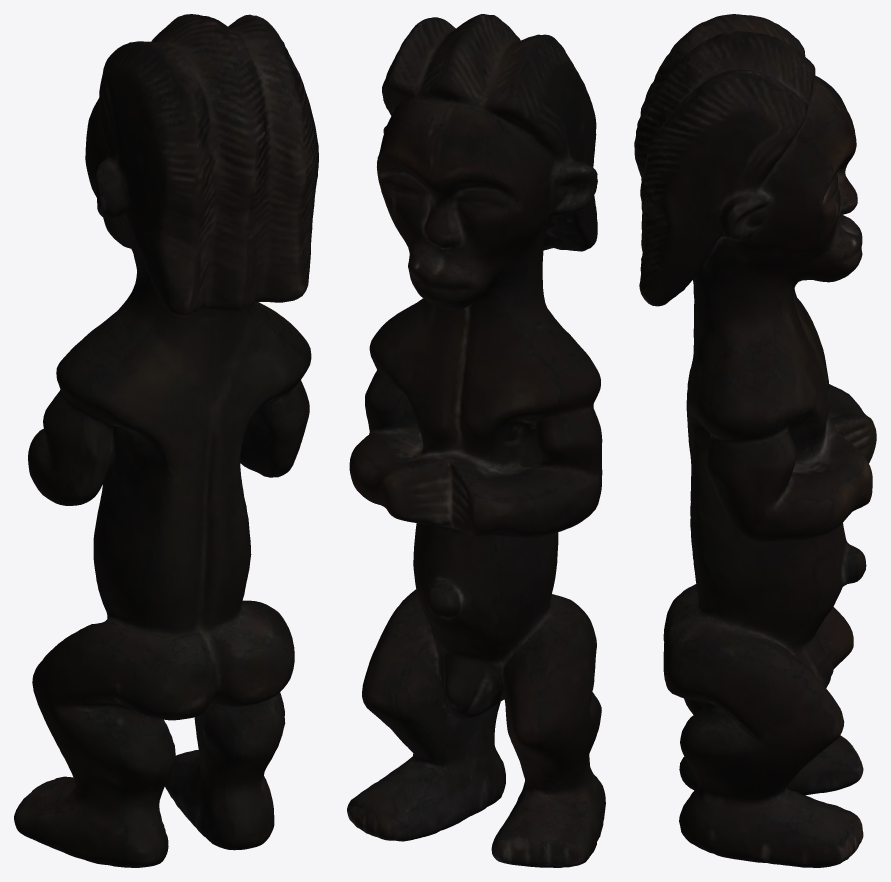
The model's file is preview.glb.
The picture shows the model from 3 angles, left to right: view 1: azimuth 30°, elevation 25°; view 2: azimuth 150°, elevation 25°; view 3: azimuth 270°, elevation 25°; orthographic projection. The views are drawn at different scales.
Visible parts, largest first — view 1: Object_2; view 2: Object_2; view 3: Object_2.
Part boxes in pixels (left/top/right/bottom): Object_2: left=14, top=14, right=318, bottom=867; Object_2: left=347, top=14, right=605, bottom=867; Object_2: left=634, top=14, right=876, bottom=867.
Bounding box in the file's own units: 127 × 395 × 108.
Materials: 1 (1 with a texture image).
